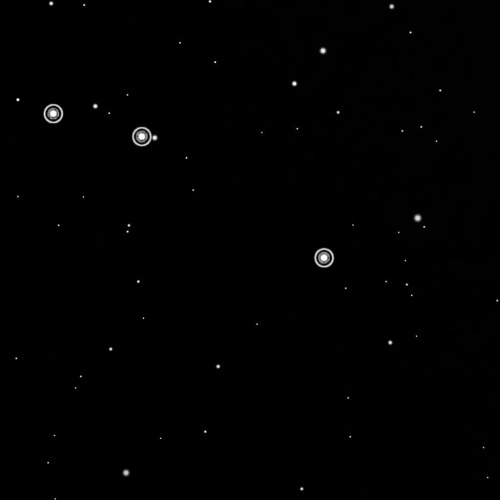vulpecula: (37, 98, 344, 276)
